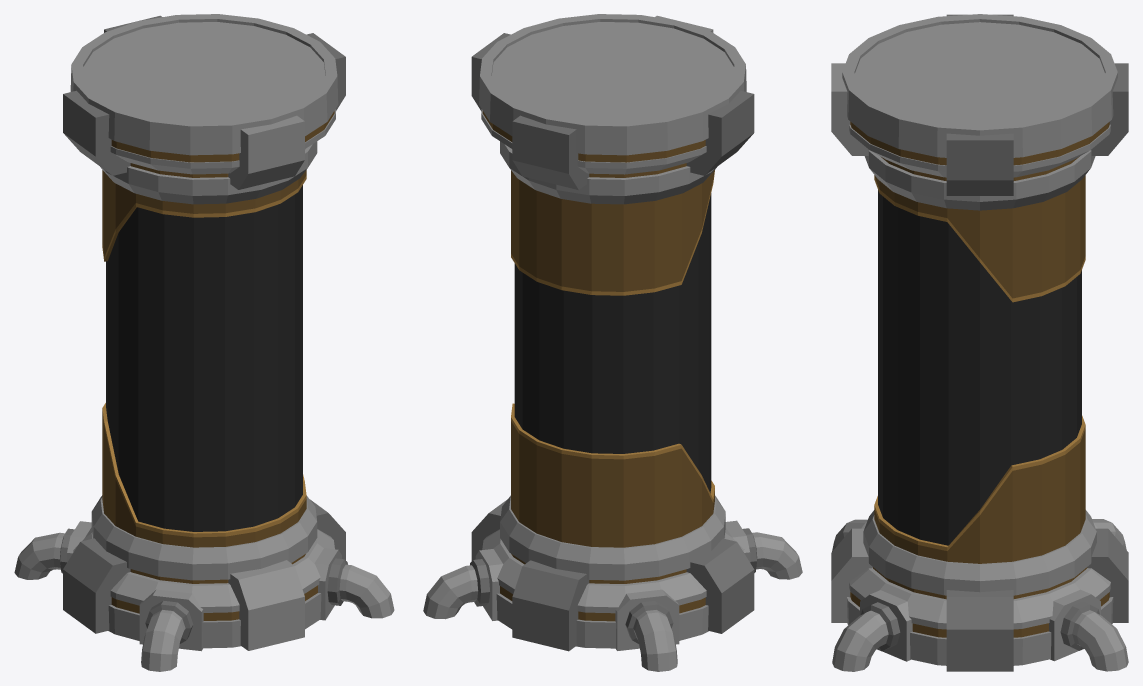
Rendered from pod.glb.
The picture shows the model from 3 angles, left to right: view 1: azimuth 30°, elevation 25°; view 2: azimuth 150°, elevation 25°; view 3: azimuth 270°, elevation 25°; orthographic projection. The views are drawn at different scales.
Parts seen in each view (by area): view 1: Props_Pod; view 2: Props_Pod; view 3: Props_Pod.
Boxes of the visible parts, x1=… form: Props_Pod: x1=14, y1=14, x2=394, y2=671; Props_Pod: x1=423, y1=14, x2=802, y2=671; Props_Pod: x1=831, y1=14, x2=1128, y2=671.
Size of the model in its own units: 1.81 by 3.61 by 1.81.
